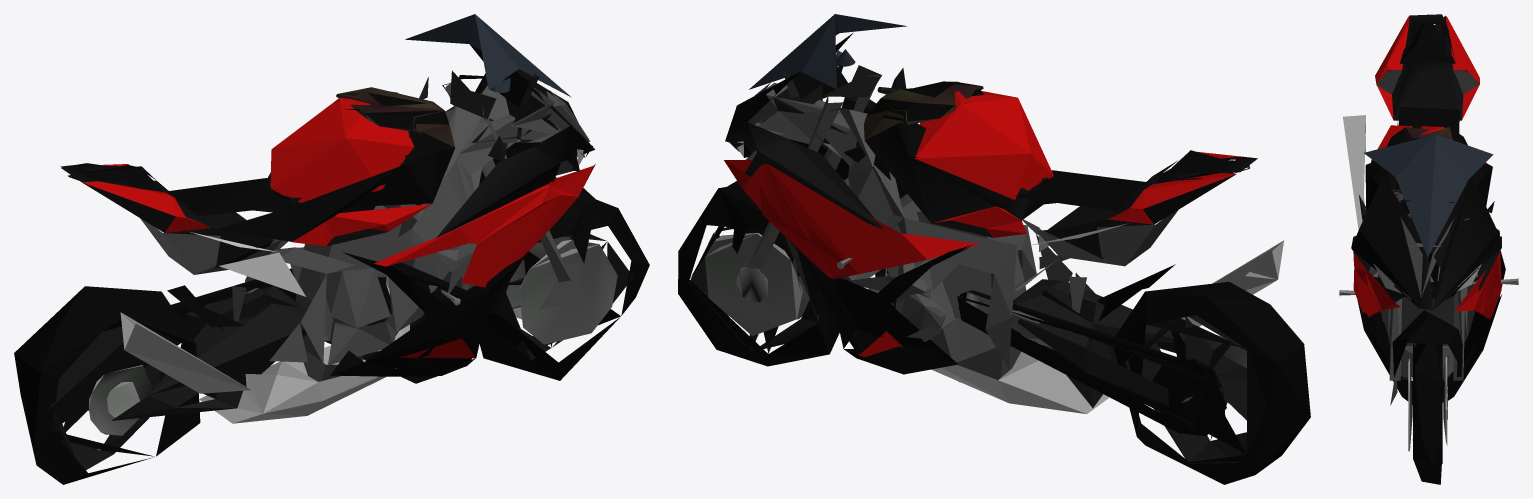
The model's file is bike.glb.
The picture shows the model from 3 angles, left to right: view 1: azimuth 30°, elevation 25°; view 2: azimuth 150°, elevation 25°; view 3: azimuth 270°, elevation 25°; orthographic projection. The views are drawn at different scales.
Visible parts, largest first — view 1: hi, lo; view 2: hi, lo; view 3: hi, lo.
Part boxes in pixels (box(x1,y1,x2,y2)): hi: box(14, 14, 649, 484); lo: box(52, 93, 620, 456); hi: box(678, 14, 1310, 484); lo: box(690, 84, 1267, 454); hi: box(1339, 14, 1518, 484); lo: box(1369, 16, 1500, 382).
Bounding box in the file's own units: 2.02 × 1.17 × 0.6004.
